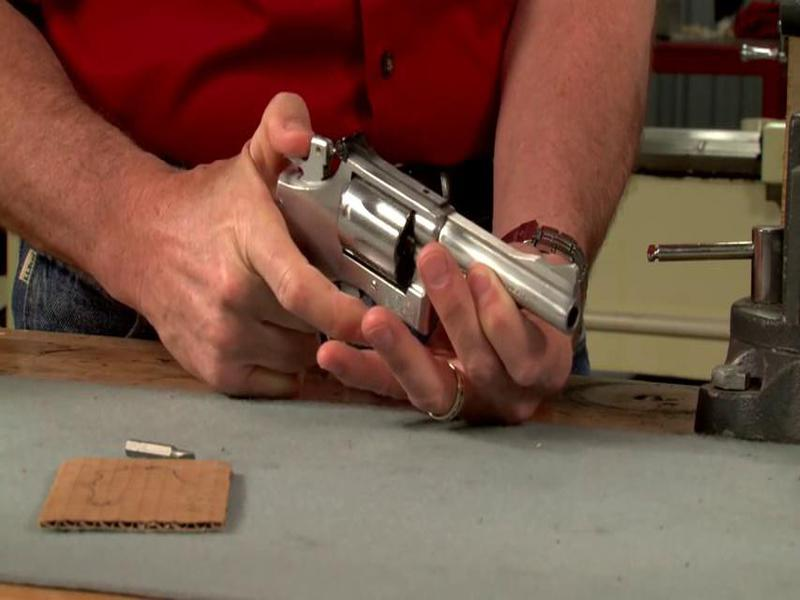Revolver: (189, 105, 601, 396)
